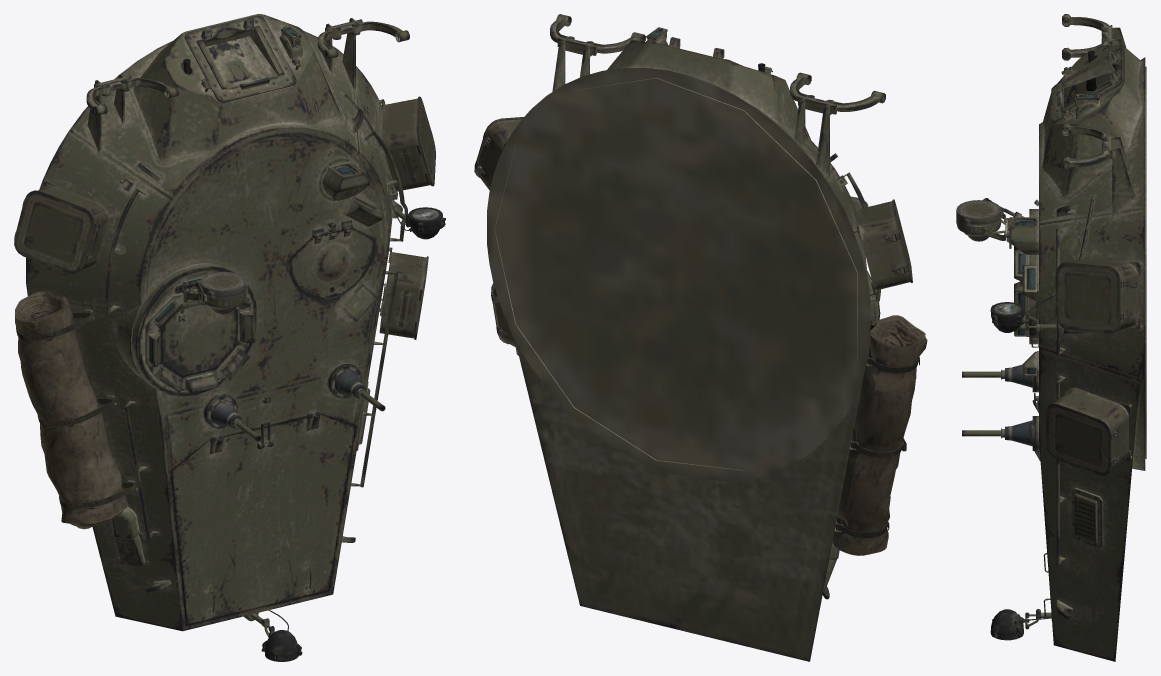
File: Turret_01.glb
3 renders of one model, left to right at view 1: azimuth 30°, elevation 25°; view 2: azimuth 150°, elevation 25°; view 3: azimuth 270°, elevation 25°, orthographic. The views are drawn at different scales.
Visible parts, largest first — view 1: set_0_group_0; view 2: set_0_group_0; view 3: set_0_group_0.
Boxes of the visible parts, x1,y1,x2,y2 form: set_0_group_0: (14,14,445,661); set_0_group_0: (474,14,927,661); set_0_group_0: (956,14,1146,661).
Size of the model in its own units: 2.47 by 3.27 by 0.987.
Materials: 1 (1 with a texture image).
